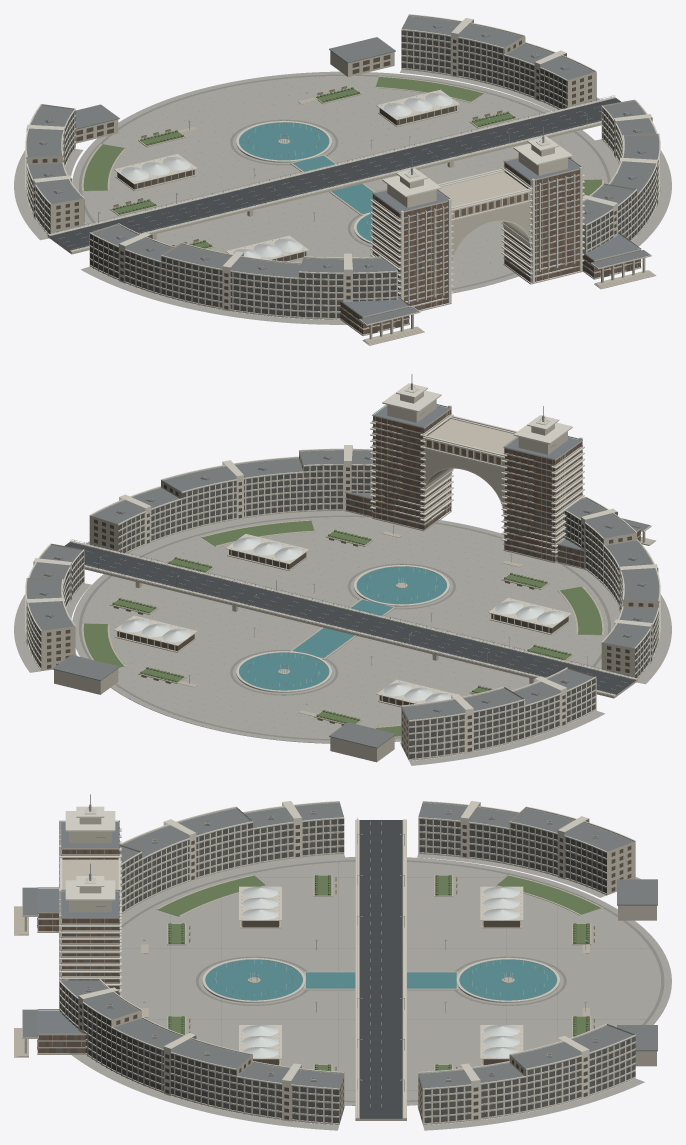
File: arch-r6.glb
The picture shows the model from 3 angles, top to bottom: view 1: azimuth 30°, elevation 25°; view 2: azimuth 150°, elevation 25°; view 3: azimuth 270°, elevation 25°; orthographic projection. The views are drawn at different scales.
Parts seen in each view (by area): view 1: Court paving, Court cornice, Court roof, Court limestone, Court asphalt, Portal Arch frame, Portal Arch stone, Court window0, Court window3, Court water, Court window2, Court window1 (+10 smaller); view 2: Court paving, Court cornice, Court limestone, Court roof, Portal Arch stone, Court asphalt, Portal Arch frame, Court water, Court planting, Court window0, Court window3, Court window1 (+10 smaller); view 3: Court paving, Court cornice, Court limestone, Court roof, Court asphalt, Court water, Court window0, Court window1, Court window3, Court window2, Portal Arch frame, Court planting (+10 smaller).
Part boxes in pixels (bbox=[...]): Court paving: bbox=[14, 69, 671, 324]; Court cornice: bbox=[25, 14, 660, 339]; Court roof: bbox=[26, 16, 659, 324]; Court limestone: bbox=[26, 15, 659, 345]; Court asphalt: bbox=[50, 98, 620, 250]; Portal Arch frame: bbox=[342, 136, 640, 332]; Portal Arch stone: bbox=[340, 145, 641, 335]; Court window0: bbox=[26, 31, 659, 317]; Court window3: bbox=[26, 30, 659, 317]; Court water: bbox=[239, 122, 373, 241]; Court window2: bbox=[26, 32, 659, 317]; Court window1: bbox=[26, 32, 659, 317]; Court paving: bbox=[14, 510, 671, 765]; Court cornice: bbox=[25, 386, 660, 760]; Court limestone: bbox=[26, 450, 659, 762]; Court roof: bbox=[26, 450, 659, 748]; Portal Arch stone: bbox=[345, 392, 641, 569]; Court asphalt: bbox=[65, 542, 635, 694]; Portal Arch frame: bbox=[347, 383, 640, 566]; Court water: bbox=[239, 566, 446, 690]; Court planting: bbox=[83, 520, 602, 736]; Court window0: bbox=[27, 465, 659, 758]; Court window3: bbox=[27, 465, 659, 756]; Court window1: bbox=[27, 465, 659, 758]; Court paving: bbox=[56, 854, 671, 1130]; Court cornice: bbox=[22, 801, 635, 1125]; Court limestone: bbox=[14, 802, 656, 1124]; Court roof: bbox=[22, 803, 657, 1088]; Court asphalt: bbox=[359, 820, 402, 1118]; Court water: bbox=[205, 959, 556, 1000]; Court window0: bbox=[60, 819, 635, 1122]; Court window1: bbox=[60, 819, 635, 1122]; Court window3: bbox=[60, 819, 635, 1122]; Court window2: bbox=[60, 820, 635, 1121]; Portal Arch frame: bbox=[37, 806, 121, 1052]; Court planting: bbox=[158, 875, 600, 1071].
Bounding box in the file's own units: 328 × 78.45 × 306.
